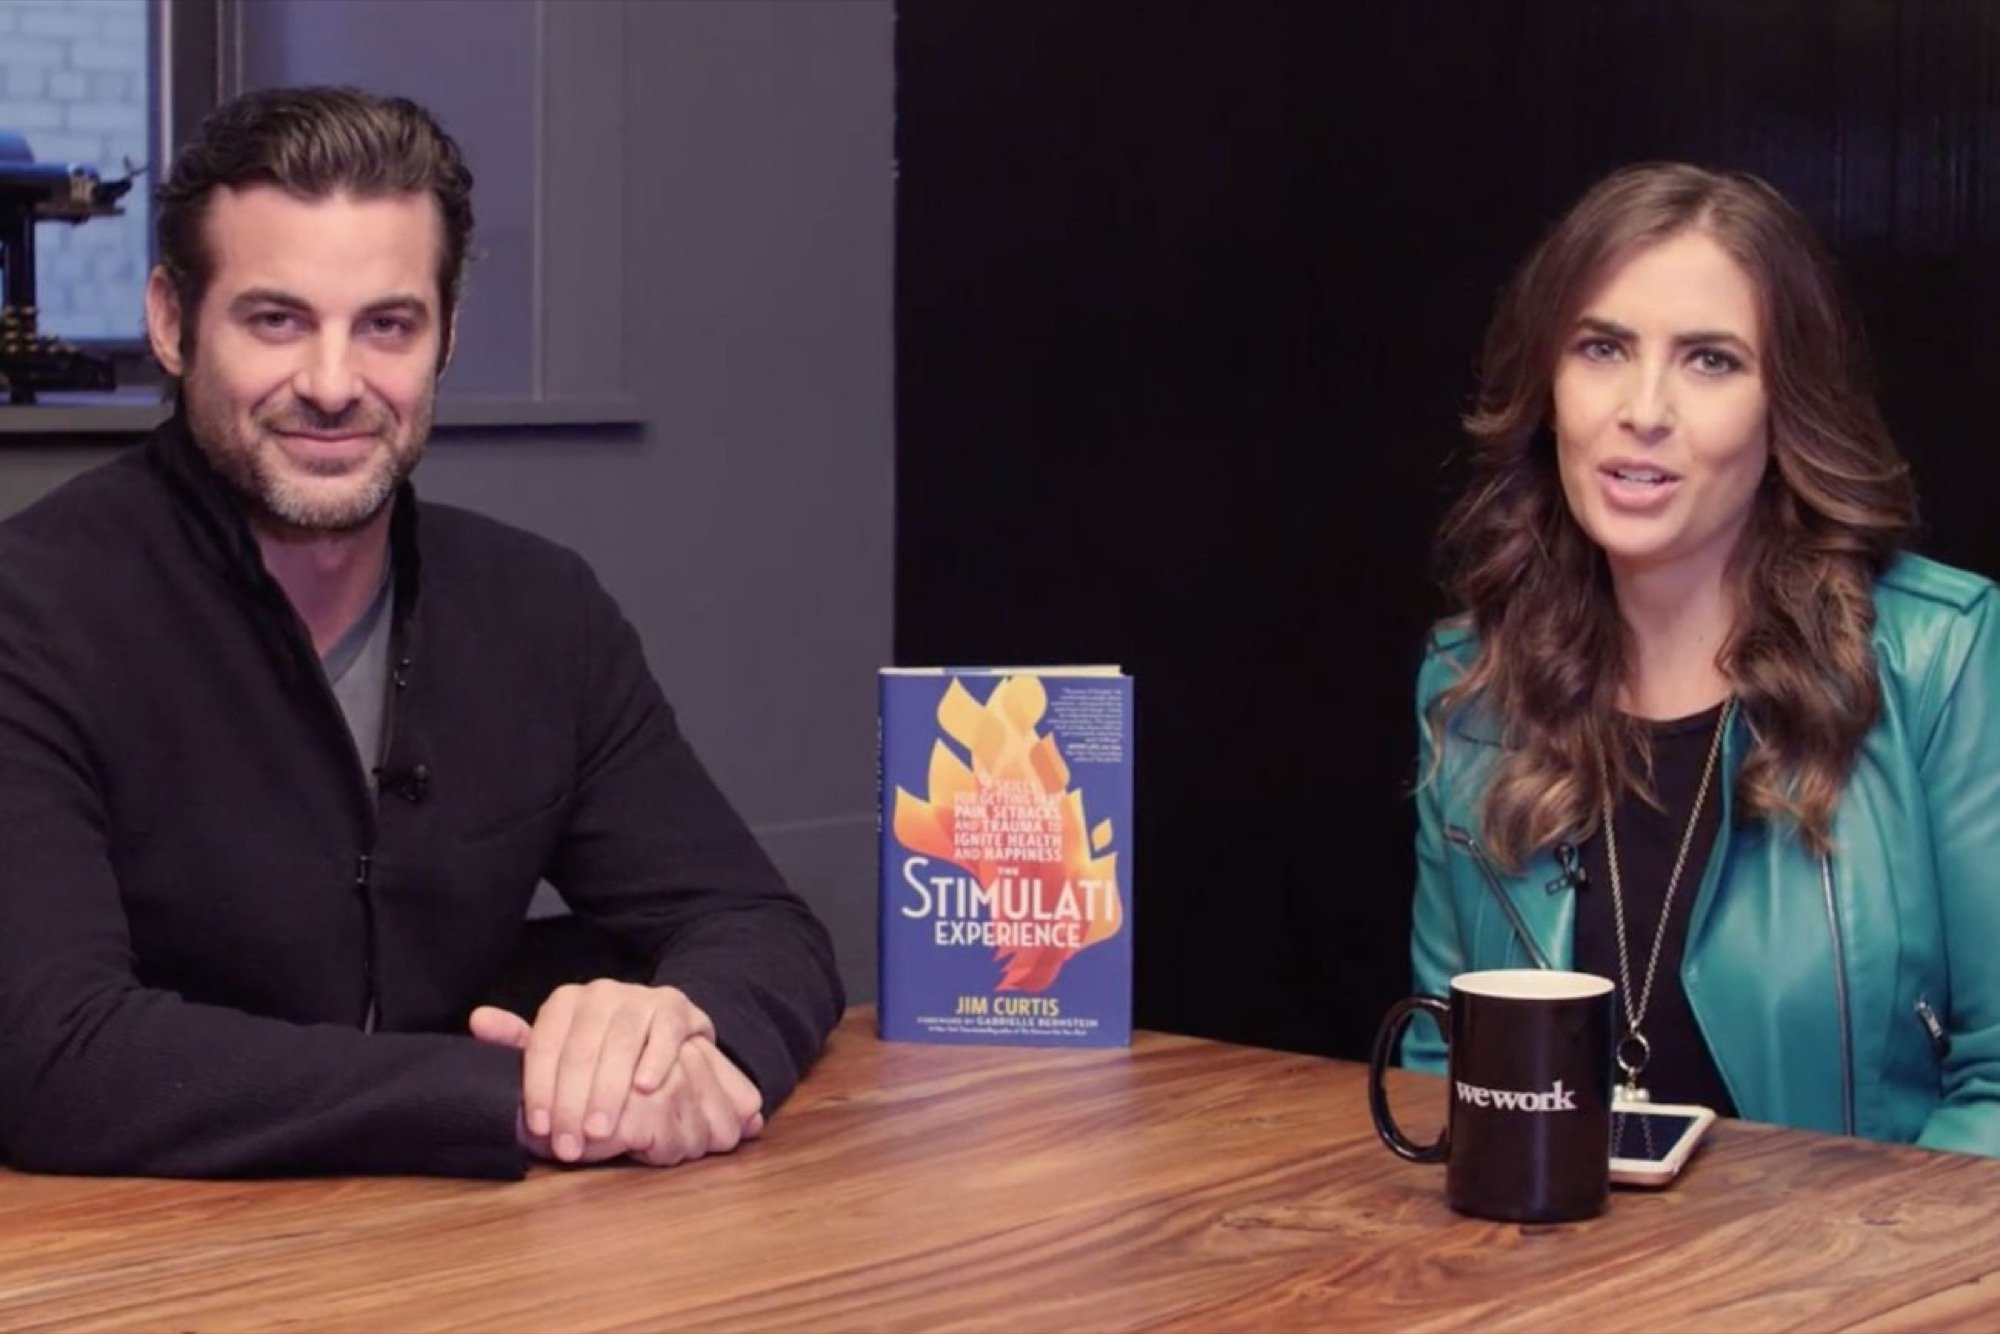wework: (1452, 1073, 1580, 1114)
